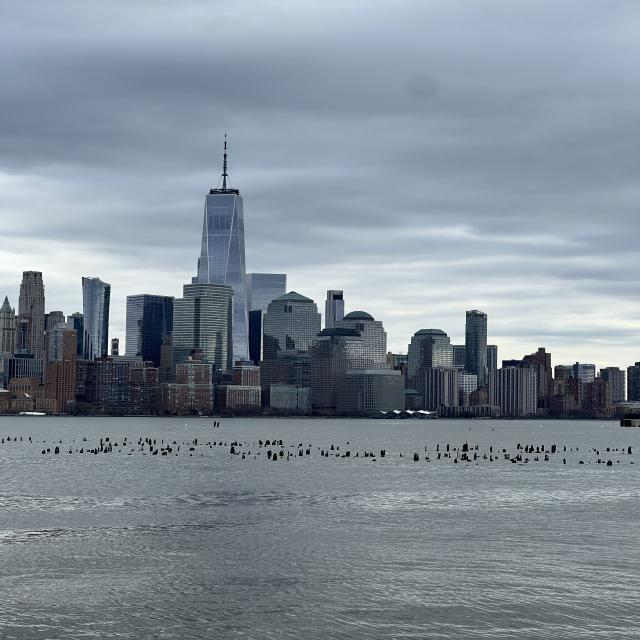WTC: (199, 136, 247, 287)
